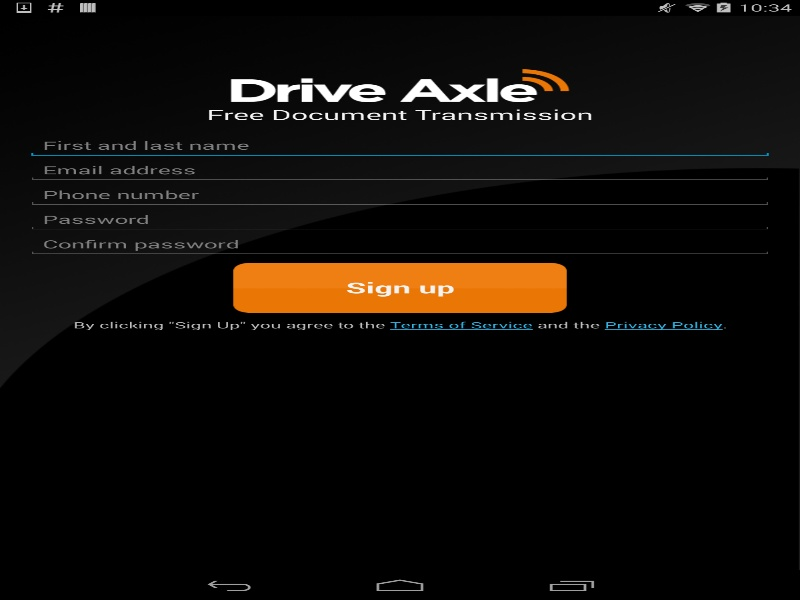Button: (233, 262, 566, 312)
Input: (26, 157, 773, 182), (26, 182, 773, 207), (26, 231, 773, 256), (26, 133, 773, 157), (26, 207, 773, 231)
